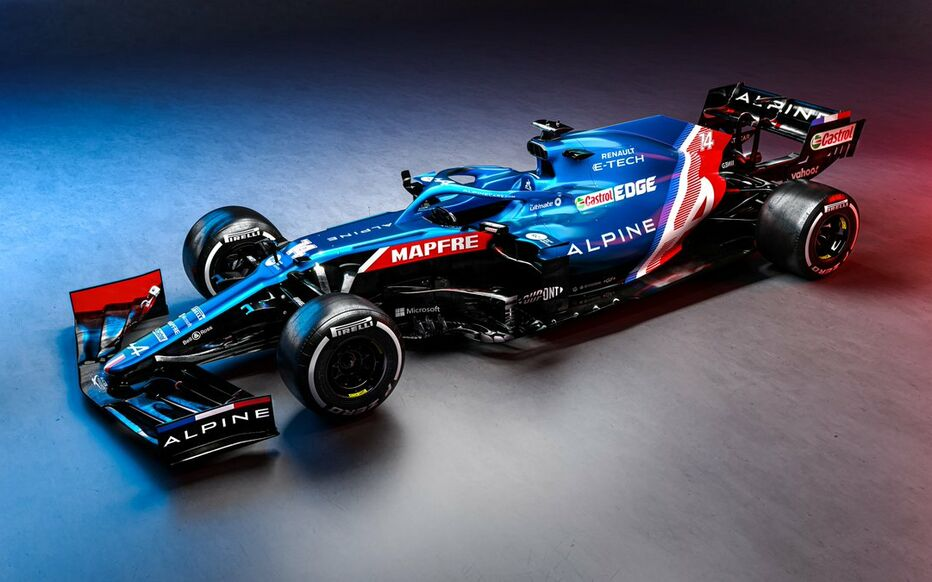Formule 1: (68, 83, 860, 471)
